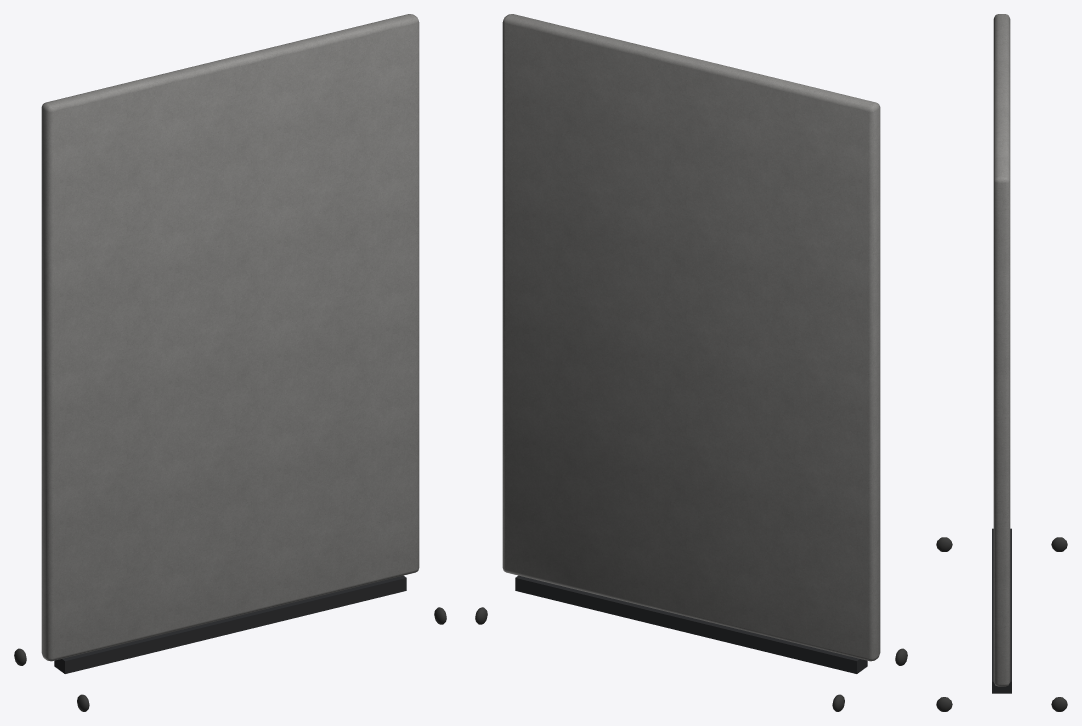
File: partition.mobile-acoustic-panel.glb
The picture shows the model from 3 angles, left to right: view 1: azimuth 30°, elevation 25°; view 2: azimuth 150°, elevation 25°; view 3: azimuth 270°, elevation 25°; orthographic projection. The views are drawn at different scales.
Parts seen in each view (by area): view 1: partition.mobile-acoustic-panel.001; view 2: partition.mobile-acoustic-panel.001; view 3: partition.mobile-acoustic-panel.001.
Boxes of the visible parts, <box> form: partition.mobile-acoustic-panel.001: <box>14,14,446,711</box>; partition.mobile-acoustic-panel.001: <box>475,14,907,711</box>; partition.mobile-acoustic-panel.001: <box>936,14,1067,711</box>.
Size of the model in its own units: 1.2 by 1.8 by 0.4.
Materials: 3 (1 with a texture image).
